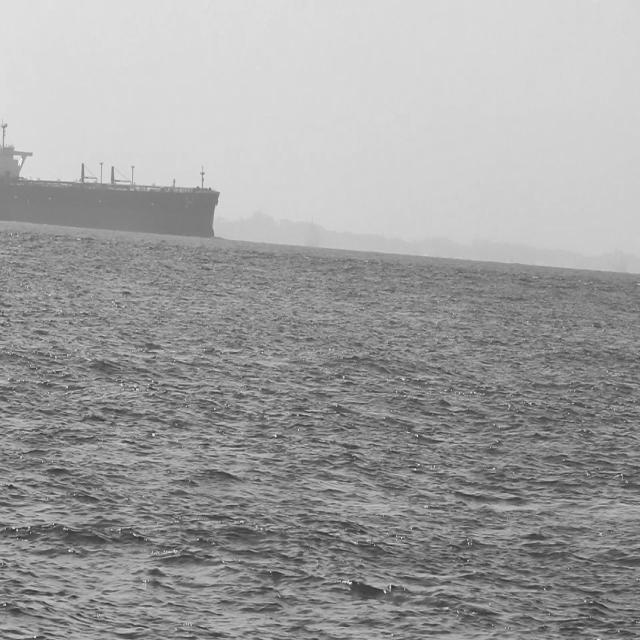ship: (0, 135, 217, 240)
